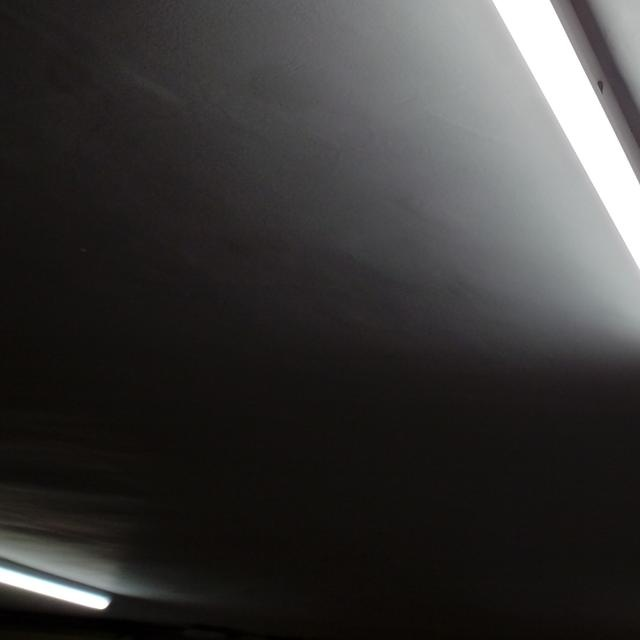fluorescent tube: (383, 0, 640, 423), (0, 536, 144, 627)
